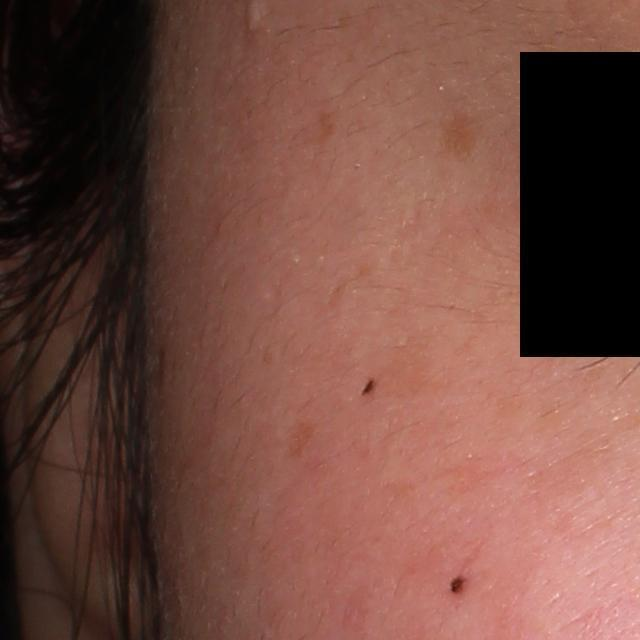melasma: (520, 426, 616, 520), (372, 320, 451, 409), (480, 393, 575, 447), (435, 117, 486, 166), (285, 417, 323, 458), (311, 103, 338, 148)
nevus: (447, 574, 468, 597), (358, 380, 377, 398)
